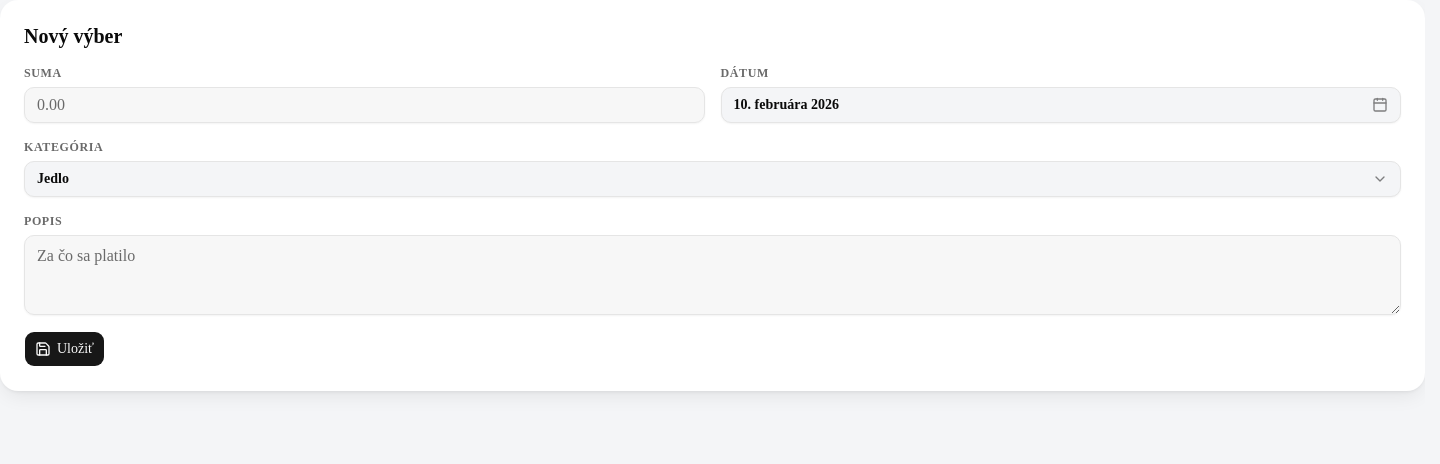
Scenario: errors › renders the localized message for invalidAmount
The image size is (1440, 464).
Type "42.50" into the number field labelled "Suma" at (364,105), box x1=24 y1=87 x2=704 y2=123
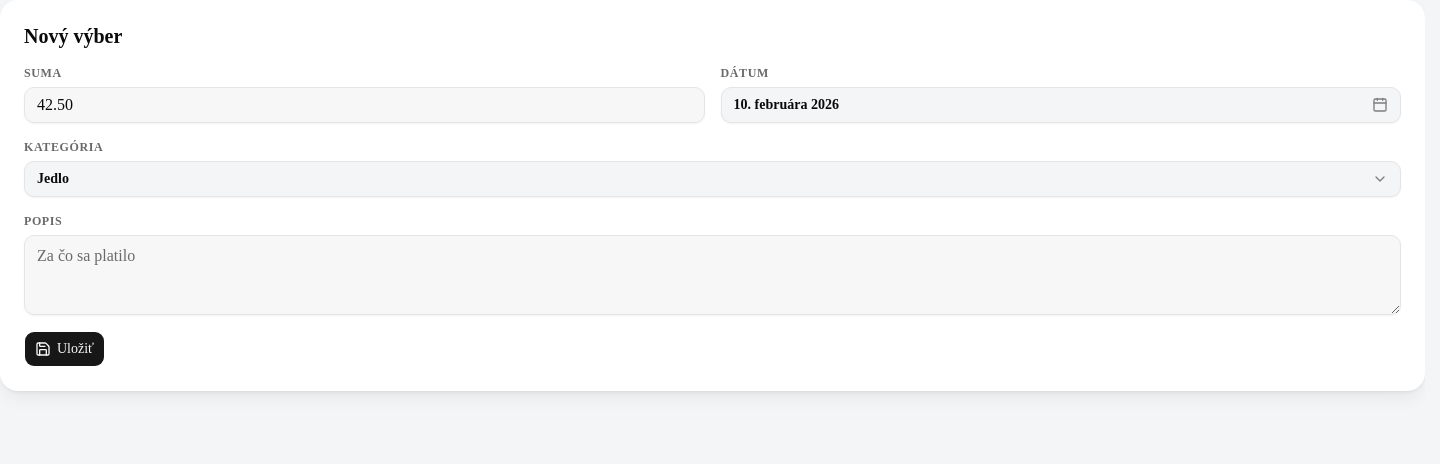
Type "Obedy po zápase" into the text box labelled "Popis" at (712,275), box x1=24 y1=235 x2=1401 y2=315
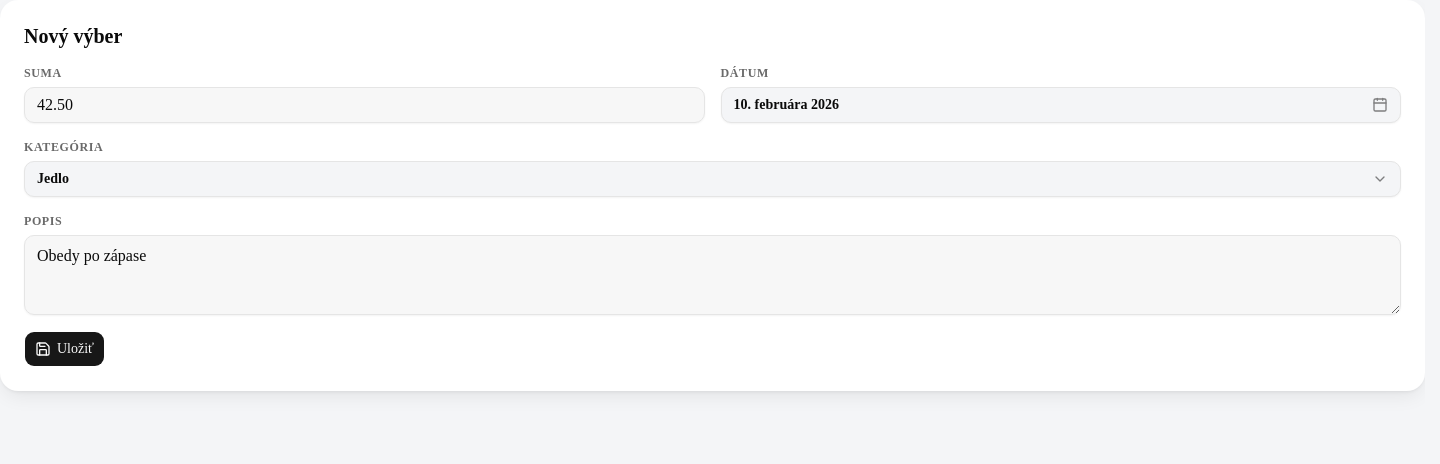
Click the button "Uložiť" at (65,349), box x1=24 y1=331 x2=105 y2=367
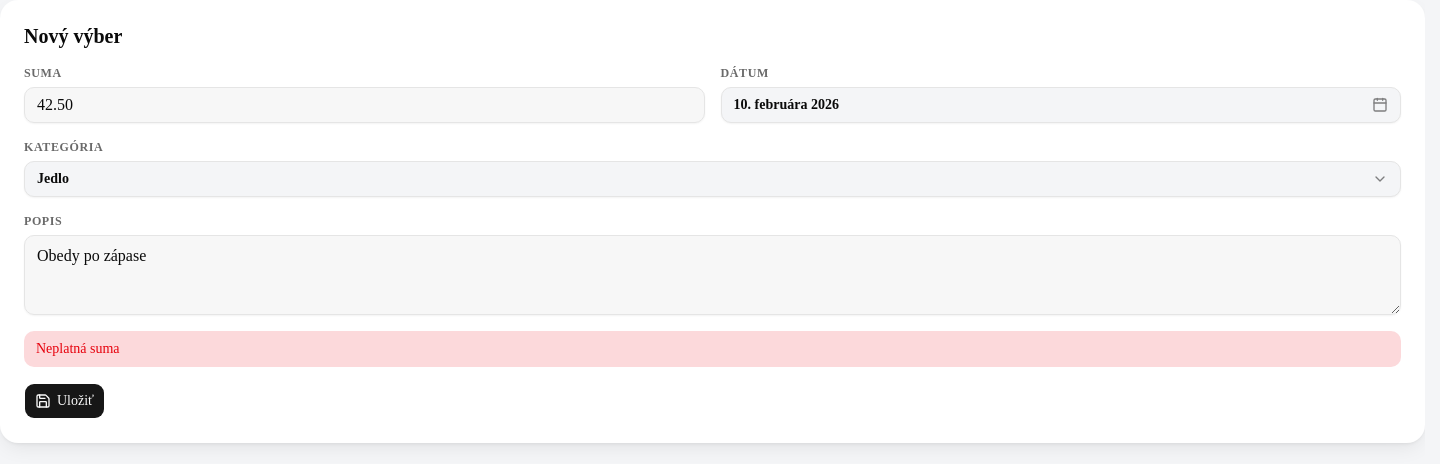
Expected: the text "Neplatná suma" is shown, x1=24 y1=331 x2=1401 y2=367
